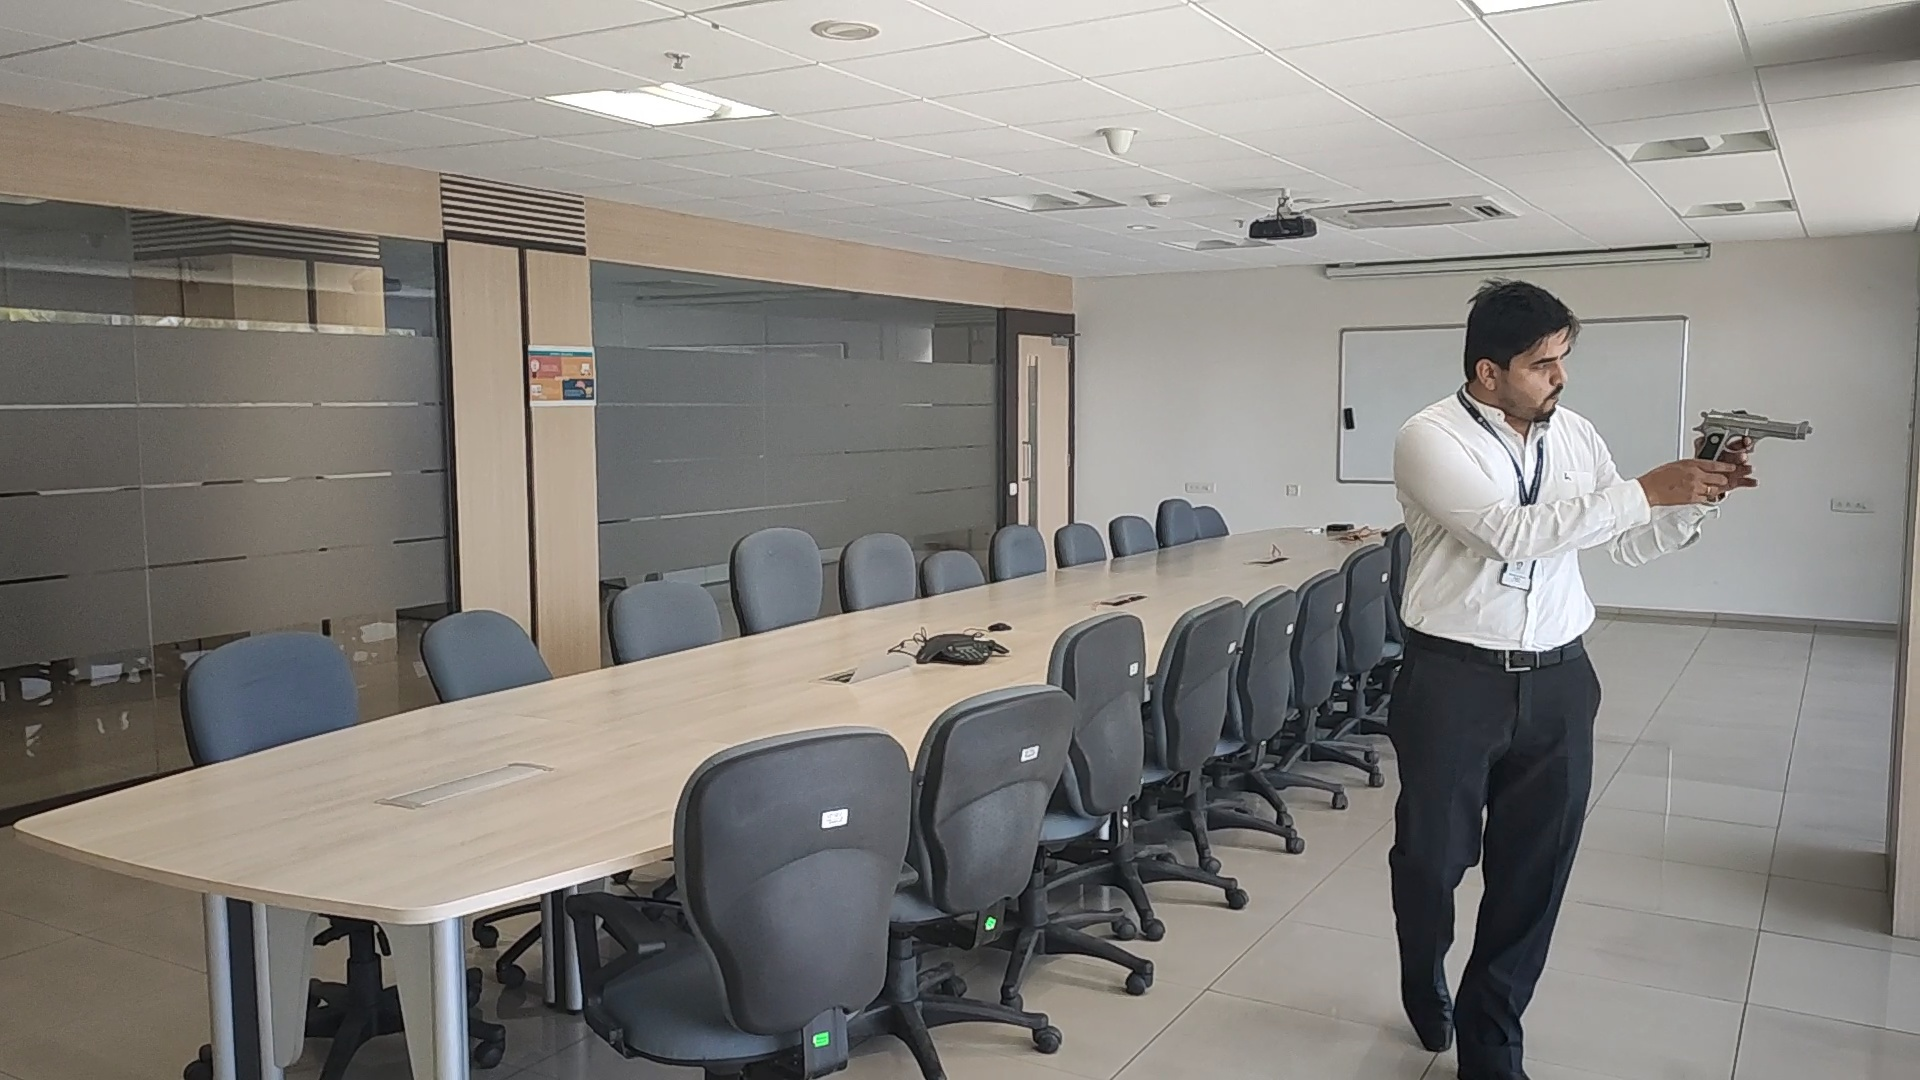gun: (1691, 407, 1815, 455)
